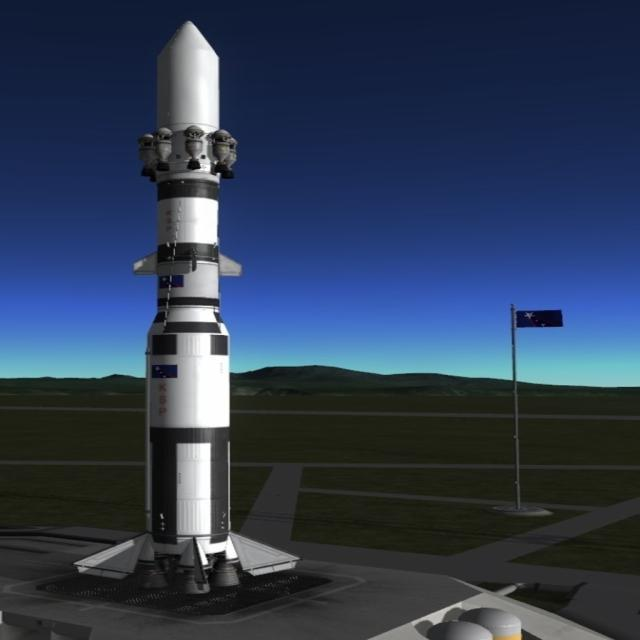missile: (99, 27, 272, 592), (136, 9, 242, 544)
